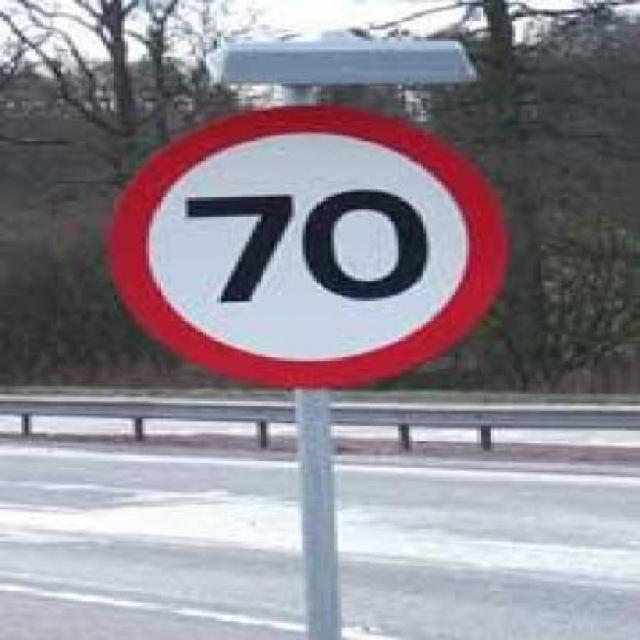forb_speed_over_70: (113, 103, 510, 389)
